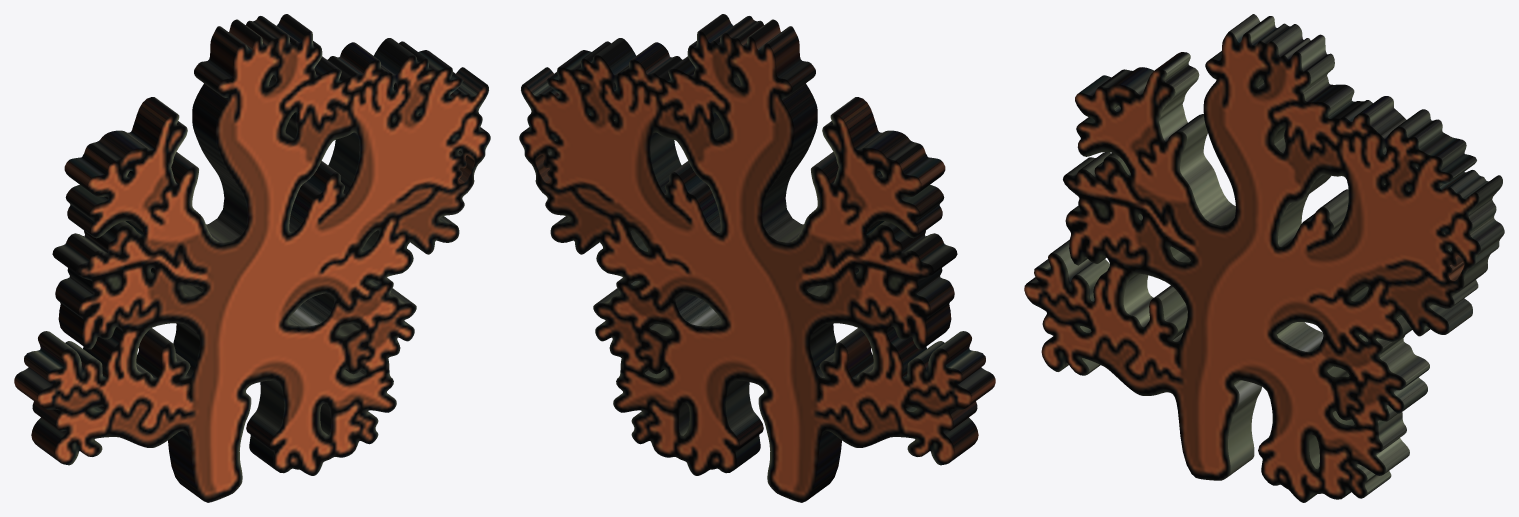
File: RedAlgae.glb
The picture shows the model from 3 angles, left to right: view 1: azimuth 30°, elevation 25°; view 2: azimuth 150°, elevation 25°; view 3: azimuth 330°, elevation 25°; orthographic projection.
Parts seen in each view (by area): view 1: Trace; view 2: Trace; view 3: Trace.
Boxes of the visible parts, box(x1,y1,x2,y2) form: Trace: box(14, 14, 490, 502); Trace: box(519, 14, 995, 502); Trace: box(1024, 14, 1504, 502).
Bounding box in the file's own units: 5 × 4.79 × 0.45.
1 material, 1 textured.
